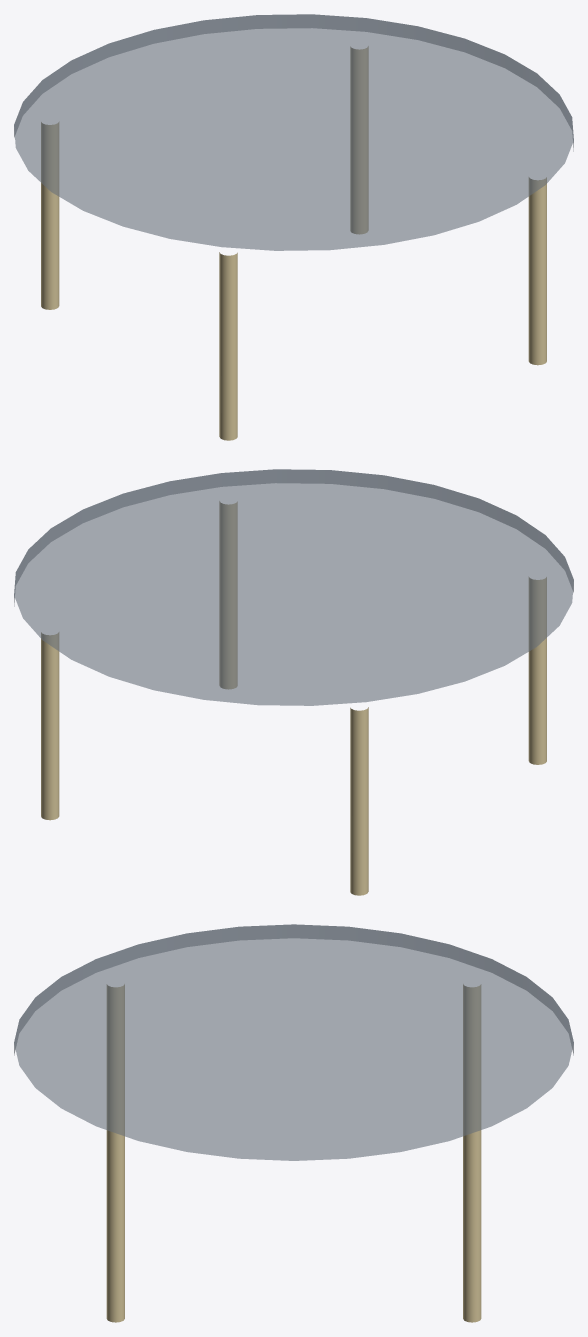
Rendered from coffee_table.glb.
3 renders of one model, top to bottom at view 1: azimuth 30°, elevation 25°; view 2: azimuth 150°, elevation 25°; view 3: azimuth 270°, elevation 25°, orthographic.
Visible parts, largest first — view 1: GlassTop, BrassLegs; view 2: GlassTop, BrassLegs; view 3: GlassTop, BrassLegs.
Boxes of the visible parts, box(x1,y1,x2,y2) form: GlassTop: box(14, 14, 573, 250); BrassLegs: box(41, 46, 546, 440); GlassTop: box(14, 469, 573, 705); BrassLegs: box(41, 501, 546, 895); GlassTop: box(14, 924, 573, 1160); BrassLegs: box(106, 984, 481, 1322).
Bounding box in the file's own units: 1.1 × 0.435 × 1.1.
